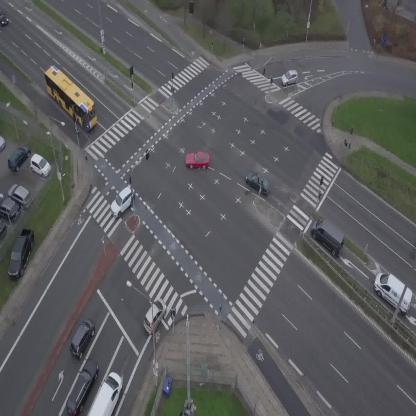bus: (35, 62, 106, 133)
car: (62, 356, 103, 416), (65, 317, 99, 360), (138, 296, 172, 337), (104, 185, 140, 220), (242, 169, 275, 198), (185, 151, 209, 169), (280, 69, 300, 87), (0, 11, 8, 25)
lorry: (304, 213, 353, 261), (88, 370, 128, 416)
